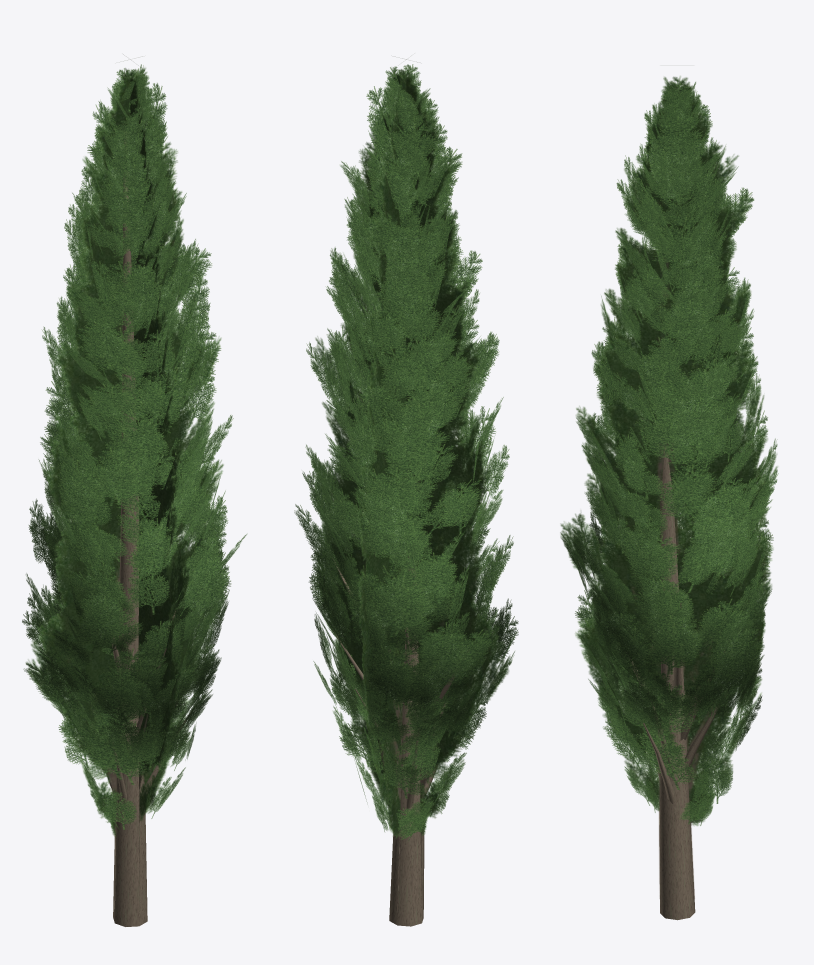
The model's file is tree_cypress.glb.
The picture shows the model from 3 angles, left to right: view 1: azimuth 30°, elevation 25°; view 2: azimuth 150°, elevation 25°; view 3: azimuth 270°, elevation 25°; orthographic projection.
Parts seen in each view (by area): view 1: crown, far, trunk; view 2: crown, far, trunk; view 3: crown, far, trunk.
Part boxes in pixels (left/top/right/bottom): crown: left=22, top=64, right=246, bottom=836; far: left=26, top=59, right=223, bottom=908; trunk: left=106, top=140, right=190, bottom=926; crown: left=294, top=64, right=518, bottom=840; far: left=314, top=59, right=510, bottom=908; trunk: left=334, top=556, right=482, bottom=926; crown: left=560, top=81, right=778, bottom=825; far: left=560, top=76, right=777, bottom=898; trunk: left=631, top=447, right=725, bottom=920.
Bounding box in the file's own units: 3.1 × 11.68 × 3.07.
3 materials, 3 textured.
